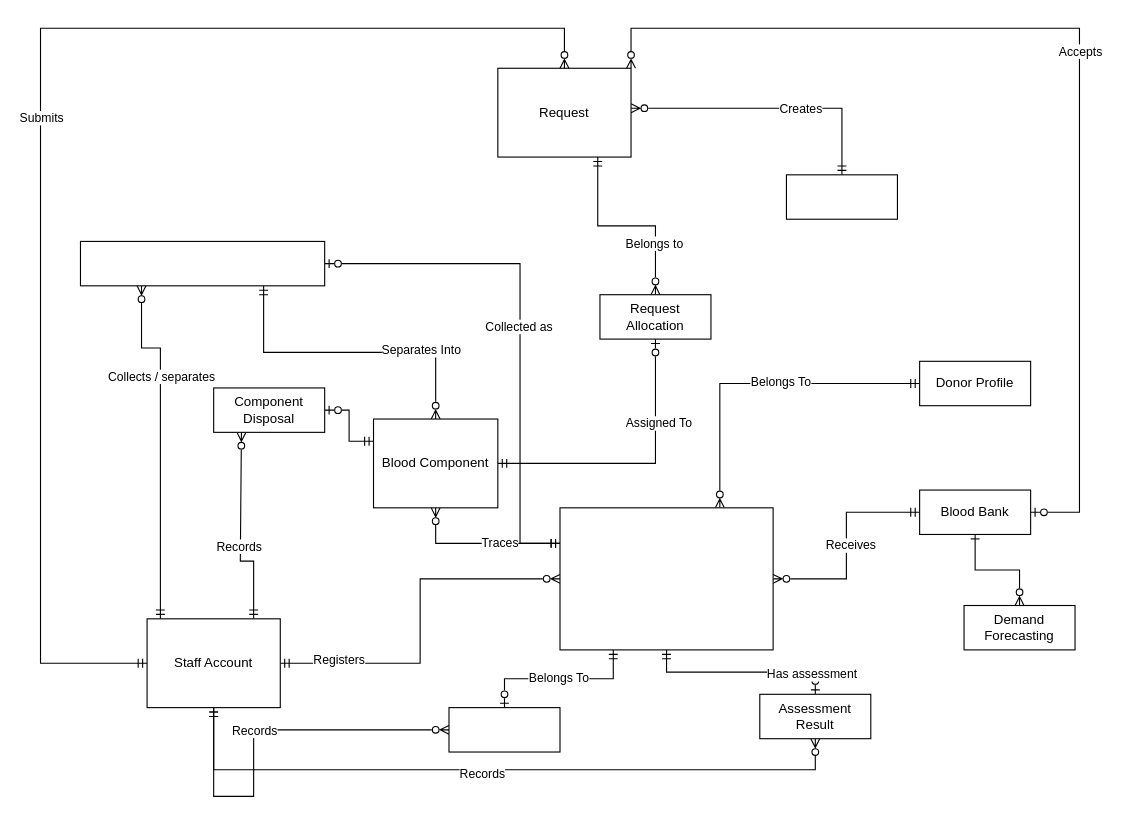
This 1121x826 diagram has some shape labels left out. The shapes that lost their labels are listed below. From the top down, each one's box as (x1, y1, x2, y2) in pixels, then its label:
(785, 174, 897, 219): Hospital
(79, 240, 325, 286): Blood Unit
(559, 507, 773, 650): Donation
(448, 707, 560, 752): Lab Test Result
